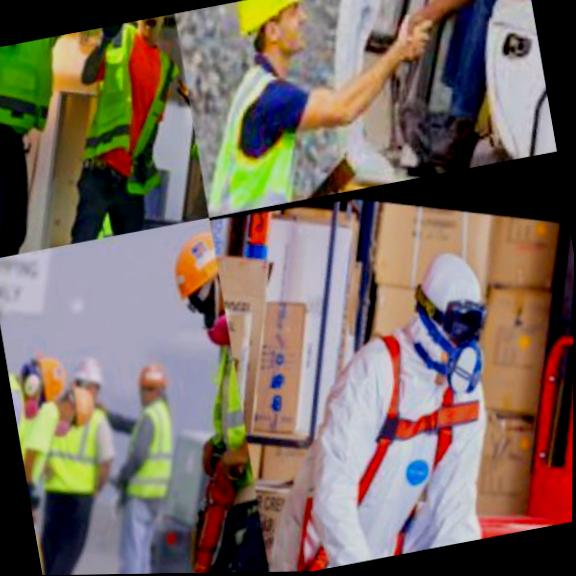safety_vest: (223, 262, 535, 573), (50, 13, 203, 211), (183, 47, 336, 216), (172, 274, 258, 518), (23, 383, 128, 511), (0, 32, 93, 160), (99, 388, 193, 511), (2, 337, 62, 511)
